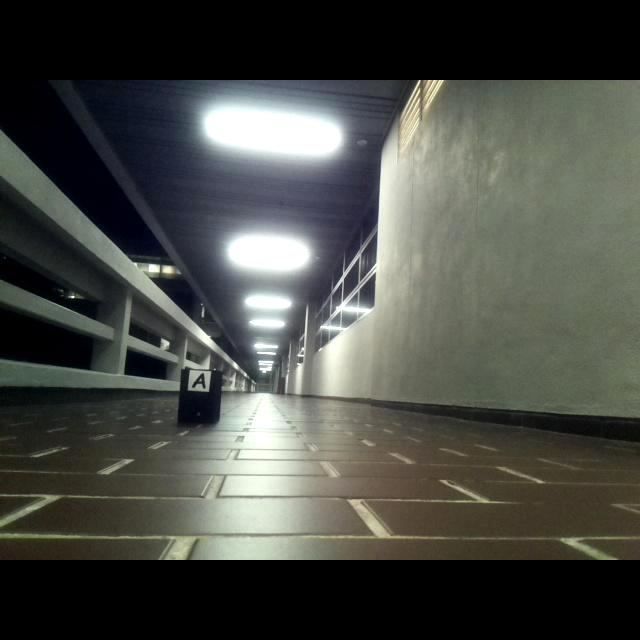A: (192, 373, 207, 389)
